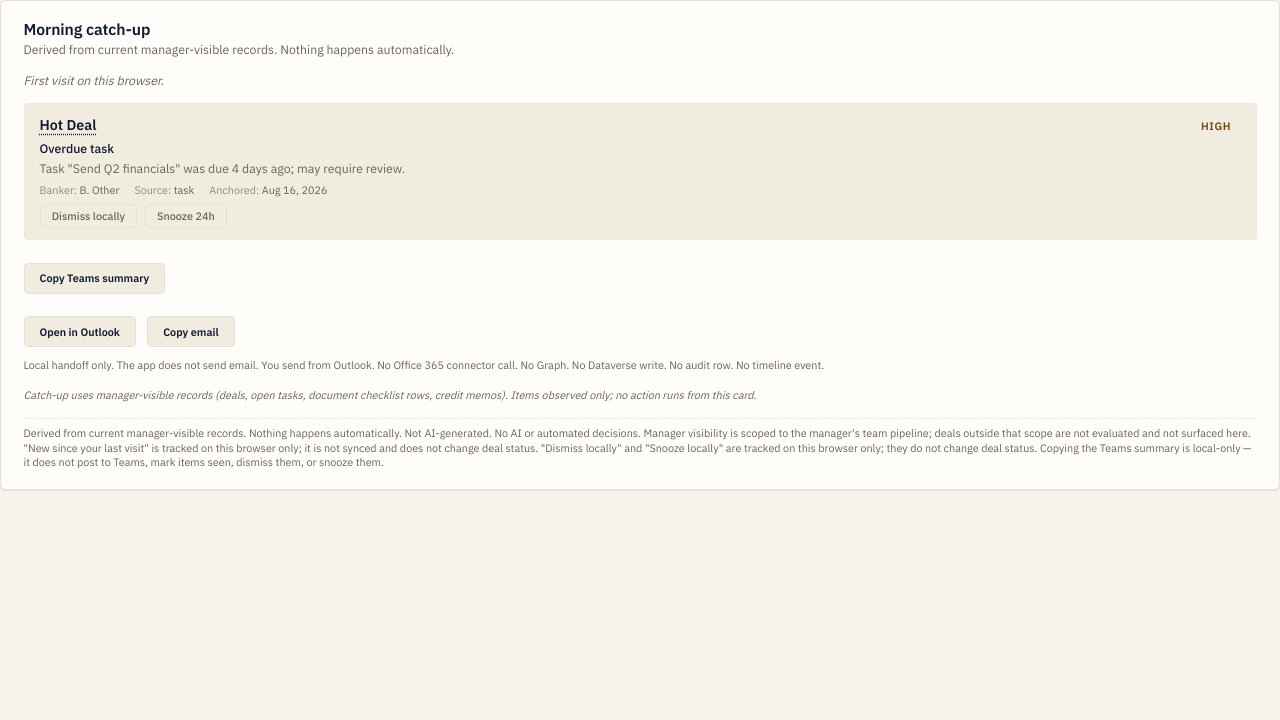
Test: ManagerMorningCatchUp — Phase 88 › Phase 98 — Copy Teams summary › shows "Copied to clipboard. Paste into Teams." status after a successful copy
This screenshot has width=1280, height=720.
Click the button with aria-label "Copy Teams summary for manager morning catch-up". click: (94, 278)
box: 24,263 -> 165,294
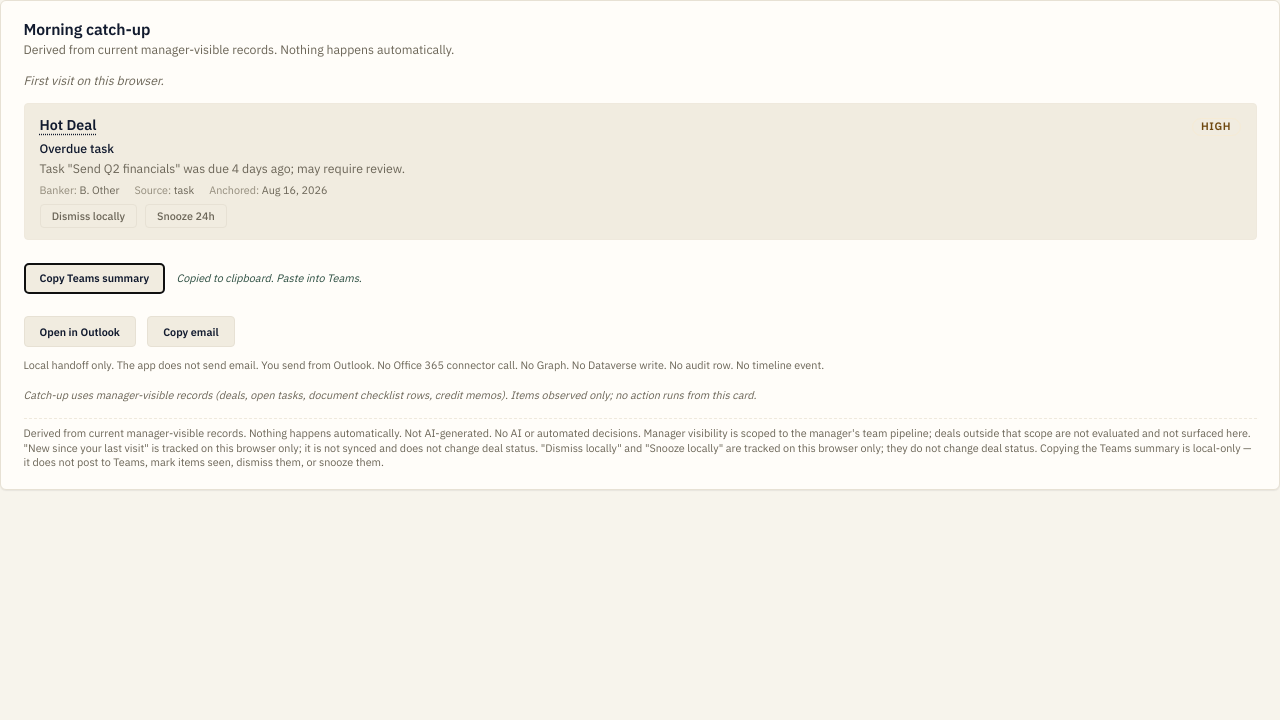
Result: the text "Copied to clipboard. Paste into Teams." is shown at 176,271 -> 362,285
